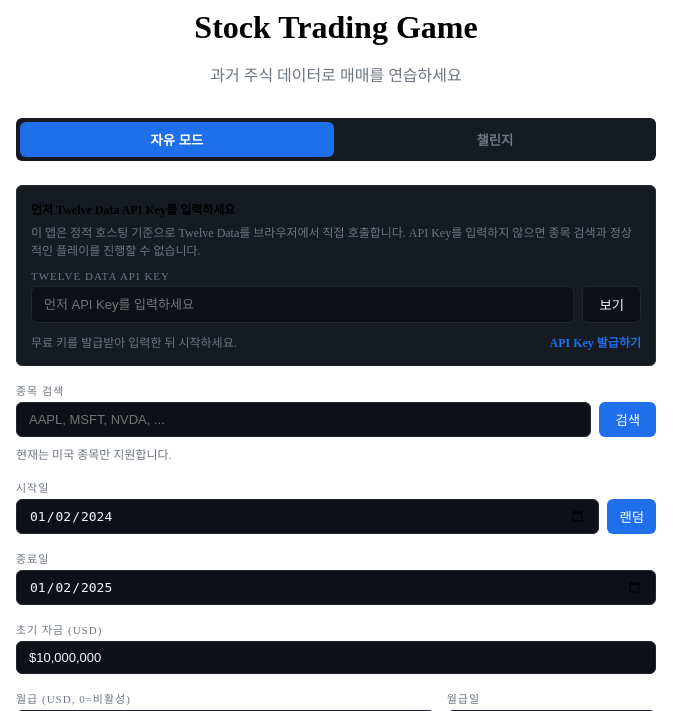
Test: StartScreen US-only symbol support › blocks challenge mode when Twelve Data API key is missing
Click the button "챌린지" at [495, 140], box [338,122,652,157]
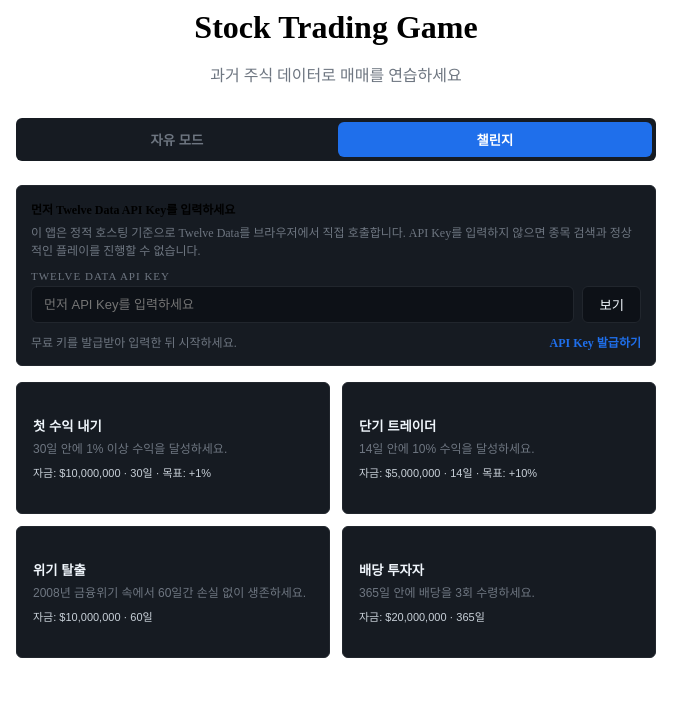
Click the button "첫 수익 내기" at [173, 448], box [16,382,330,514]
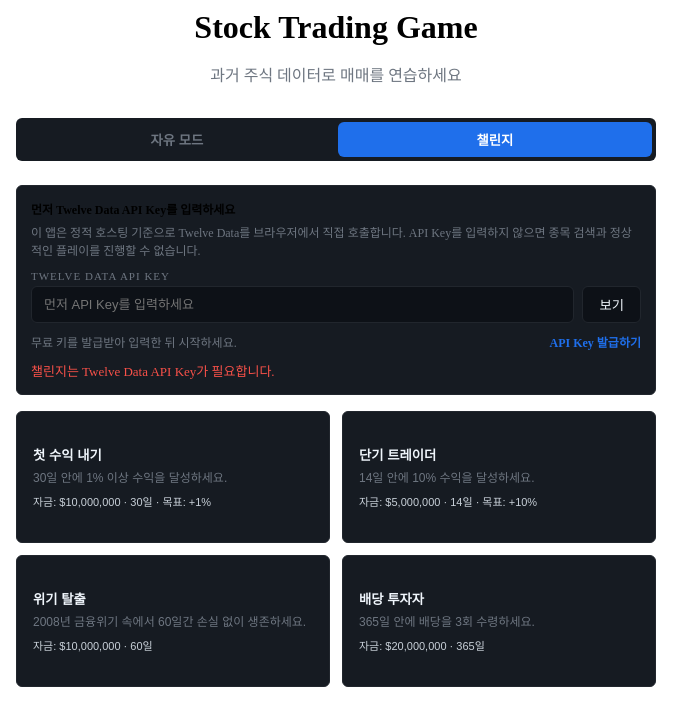
Expected: the text "챌린지는 Twelve Data API Key가 필요합니다." is shown, [31,364,275,379]
